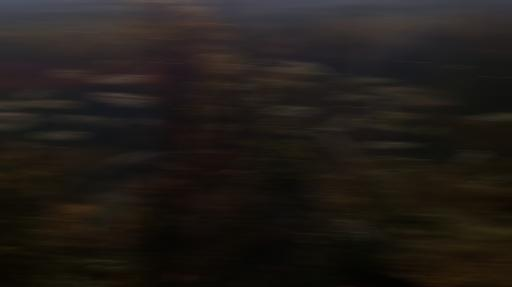Fish: (72, 151, 161, 195), (0, 87, 82, 131), (360, 100, 426, 149), (318, 113, 362, 164), (34, 113, 97, 141), (271, 61, 329, 86), (345, 85, 428, 100), (91, 91, 160, 108), (92, 74, 153, 85), (262, 105, 316, 117), (456, 151, 489, 165), (474, 112, 512, 123), (50, 69, 91, 79), (94, 115, 119, 130), (351, 77, 399, 84), (465, 175, 504, 183), (135, 117, 154, 126)
